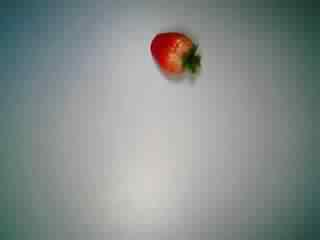strawberry: (139, 23, 205, 85)
